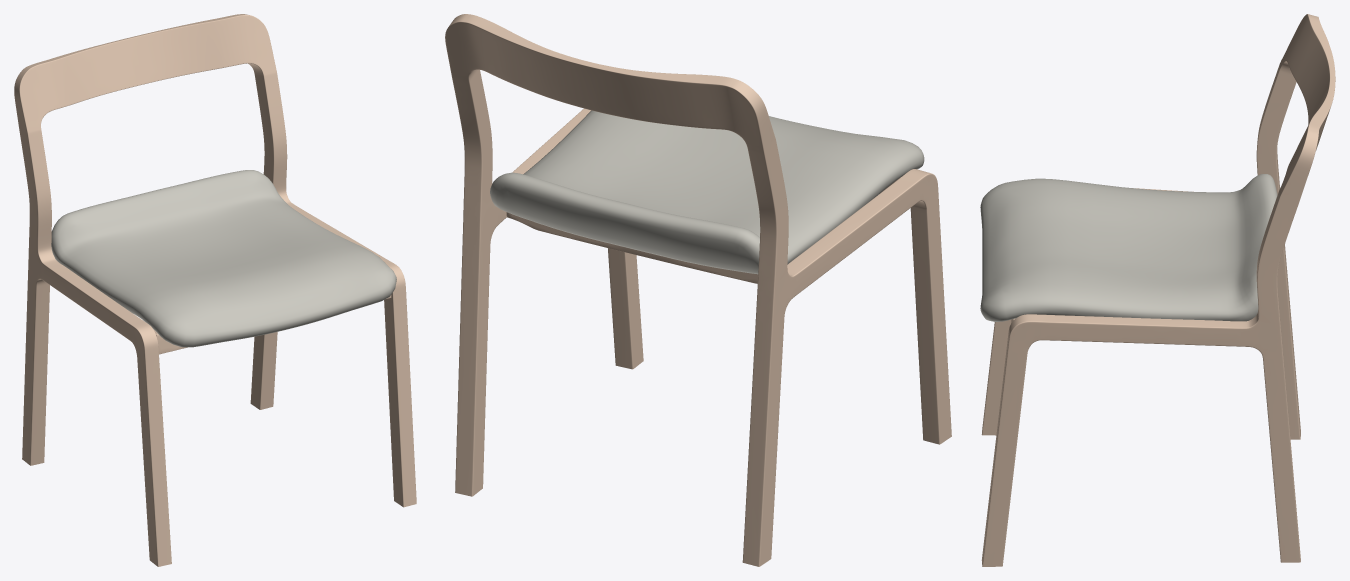
Rendered from cadeira-quaddra.glb.
3 views of the same model, side by side, from view 1: azimuth 30°, elevation 25°; view 2: azimuth 150°, elevation 25°; view 3: azimuth 270°, elevation 25° (orthographic). The views are drawn at different scales.
Size of the model in its own units: 0.5694 by 0.8048 by 0.6083.
